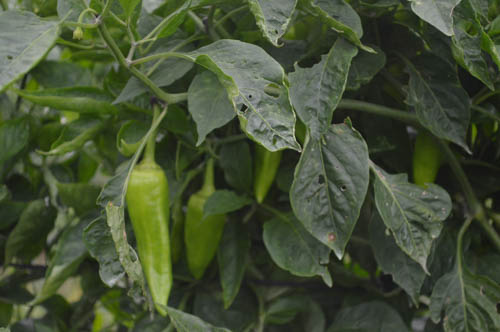ChiliPepper: (126, 167, 171, 319), (183, 193, 223, 278), (406, 131, 449, 191), (248, 140, 282, 209)
